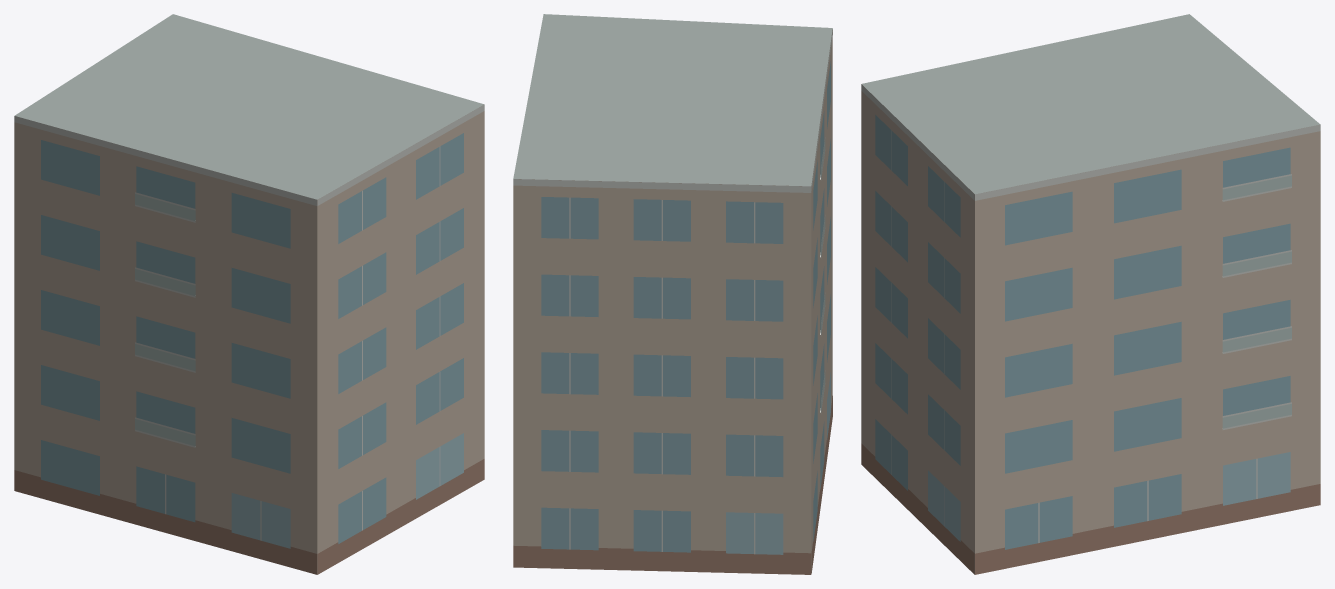
File: survey-upis-32544337.glb
The picture shows the model from 3 angles, left to right: view 1: azimuth 30°, elevation 25°; view 2: azimuth 150°, elevation 25°; view 3: azimuth 270°, elevation 25°; orthographic projection. The views are drawn at different scales.
Parts seen in each view (by area): view 1: survey-upis-32544337.tmp; view 2: survey-upis-32544337.tmp; view 3: survey-upis-32544337.tmp.
Boxes of the visible parts, x1,y1,x2,y2 form: survey-upis-32544337.tmp: (14, 14, 484, 574); survey-upis-32544337.tmp: (513, 14, 832, 574); survey-upis-32544337.tmp: (861, 14, 1320, 574).
Size of the model in its own units: 14.45 by 14.2 by 15.55.
